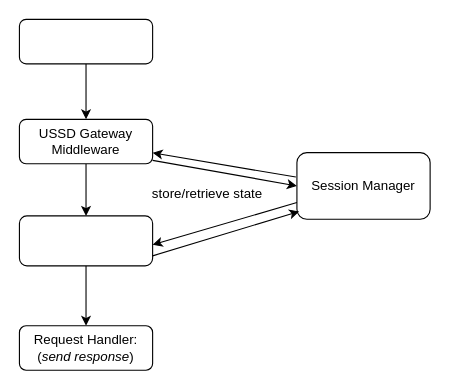
Some shapes in this 450 by 390 pixel diagram are drawn without their labels. Each missing label, with the box of its shape:
Menu Builder: (18, 215, 153, 266)
Request Handler: ( process resquest ): (18, 18, 153, 64)
